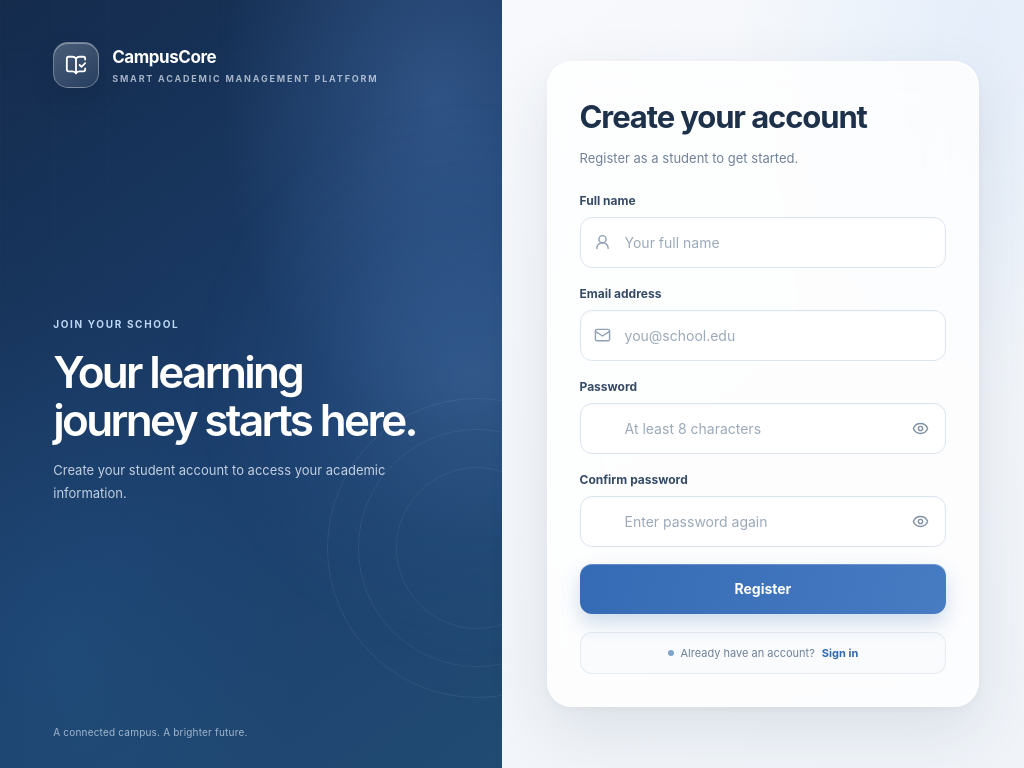
registration flow › validates malformed email and mismatched passwords without sending the request
The width and height of the screenshot is (1024, 768).
Type "Test Student" into the field labelled "Full name" at (763, 242), box top-left (580, 217), bottom-right (946, 268)
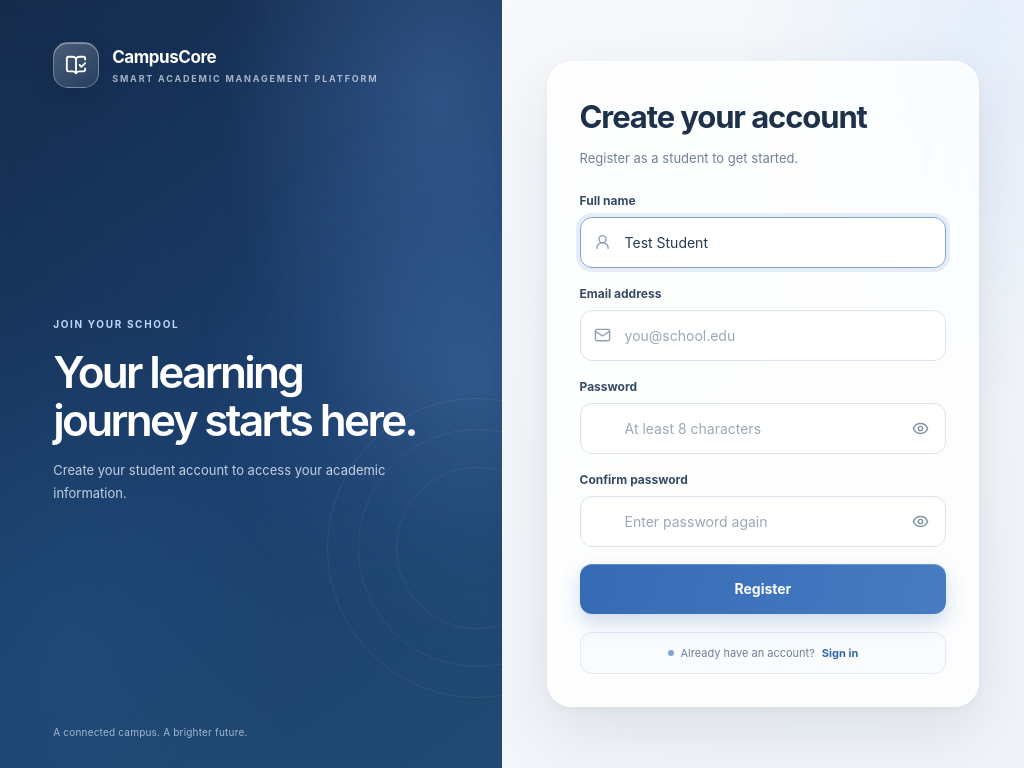
Type "bad-email" into the field labelled "Email address" at (763, 335), box top-left (580, 310), bottom-right (946, 361)
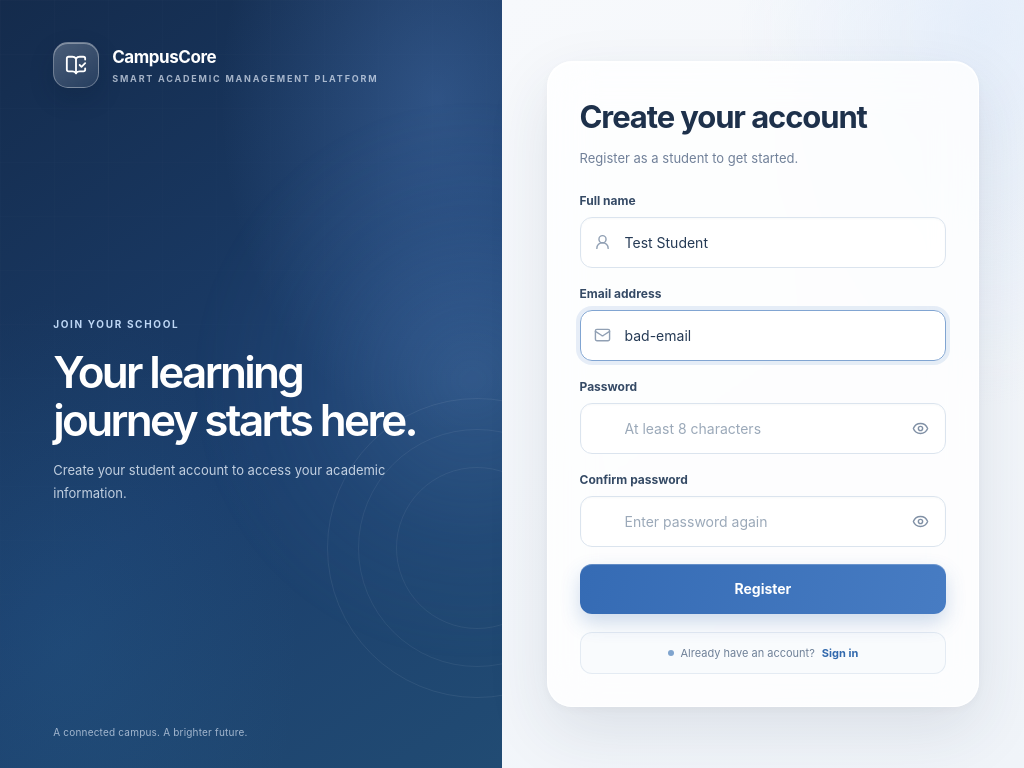
Type "Student@123" into the password field labelled "Password" at (763, 428), box top-left (580, 403), bottom-right (946, 454)
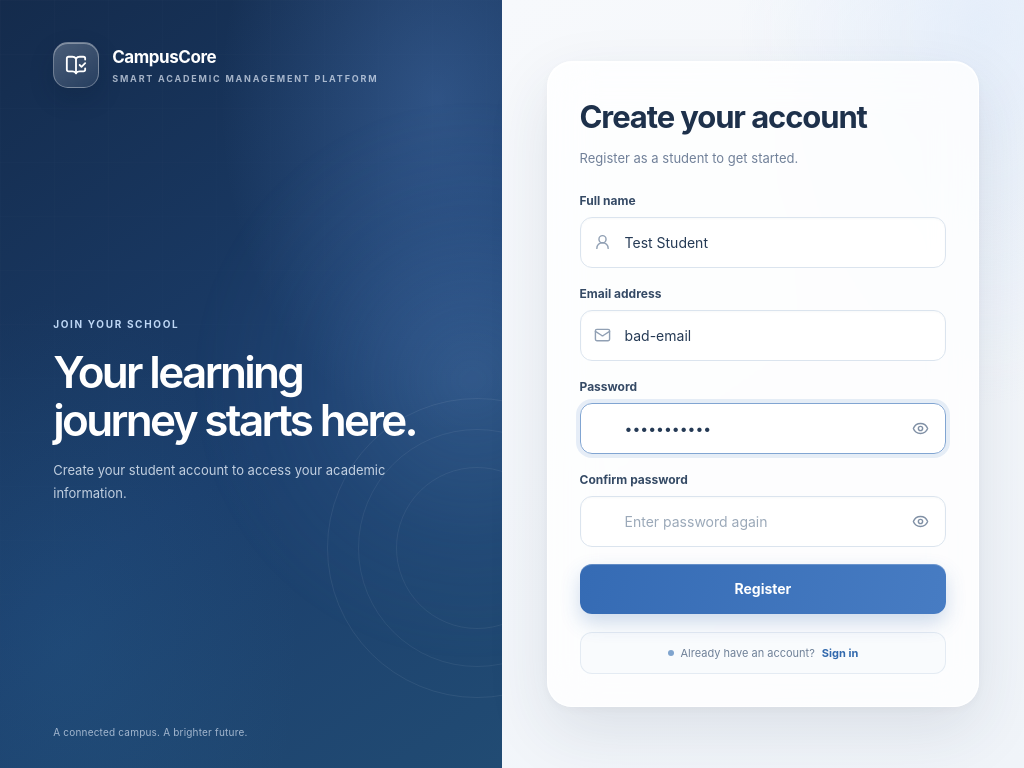
Type "different" into the password field labelled "Confirm password" at (763, 521), box top-left (580, 496), bottom-right (946, 547)
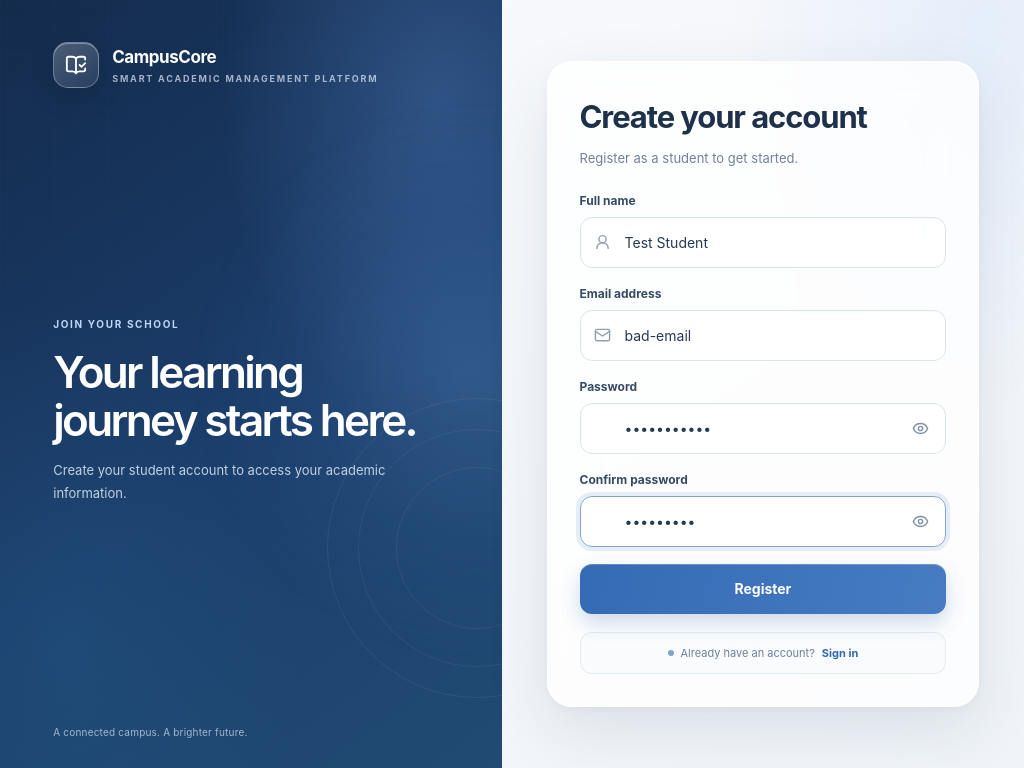
Click the button "Register" at (763, 589), box top-left (580, 564), bottom-right (946, 614)
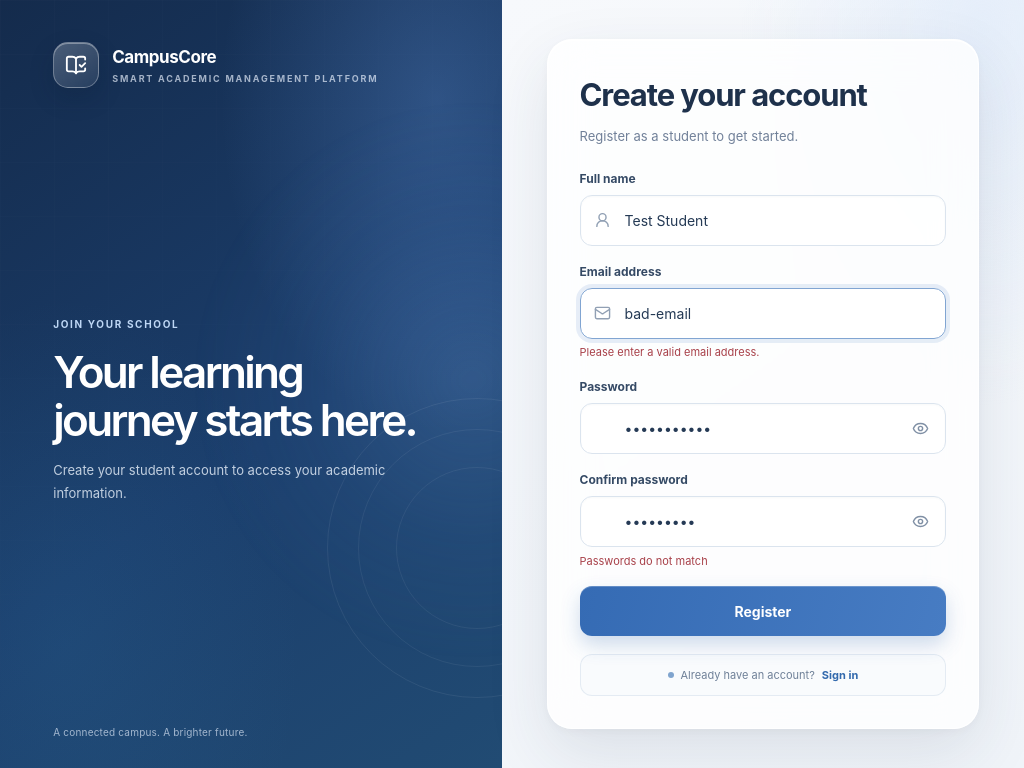
Result: the text "Please enter a valid email address." is shown at top-left (580, 345), bottom-right (759, 359)
Result: the text "Passwords do not match" is shown at top-left (580, 554), bottom-right (708, 568)
